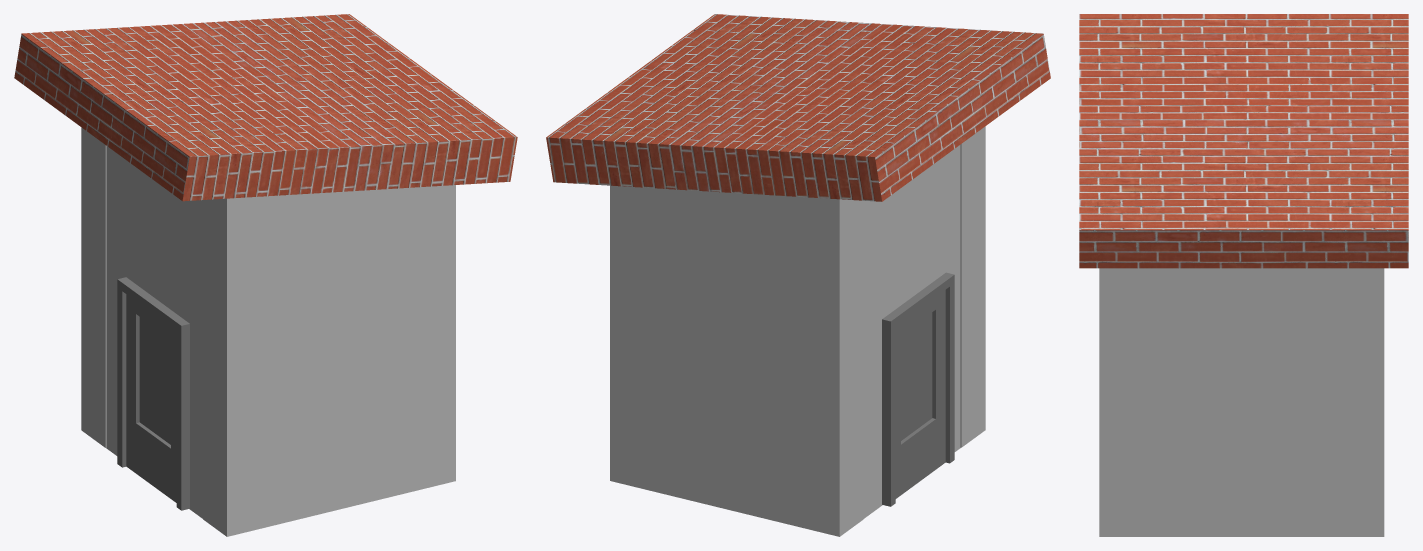
Rendered from CasaPeque.fbx.
The picture shows the model from 3 angles, left to right: view 1: azimuth 30°, elevation 25°; view 2: azimuth 150°, elevation 25°; view 3: azimuth 270°, elevation 25°; orthographic projection. The views are drawn at different scales.
Visible parts, largest first — view 1: Box031, Box034, Box033, PivotDoor002, Box030; view 2: Box030, Box034, Box033, PivotDoor002, Box031; view 3: Box034, Box032, Box030, Box031.
Part boxes in pixels (x1,y1,x2,y2): Box031: (203,185,455,536); Box034: (14,14,517,201); Box033: (106,146,202,518); PivotDoor002: (117,277,189,510); Box030: (81,127,106,447); Box030: (610,185,863,536); Box034: (546,14,1050,201); Box033: (863,145,960,518); PivotDoor002: (882,272,954,506); Box031: (960,126,985,447); Box034: (1079,14,1408,268); Box032: (1146,268,1337,536); Box030: (1337,268,1384,536); Box031: (1099,268,1146,536).
Bounding box in the file's own units: 80.52 × 91.91 × 70.
